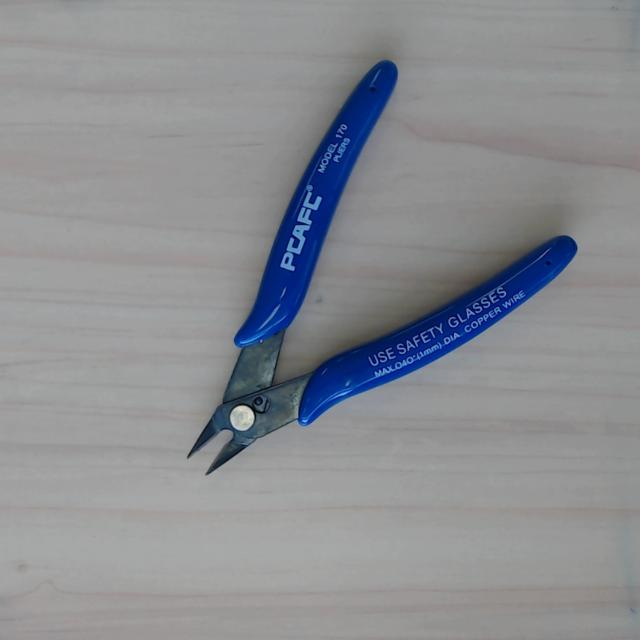Tang-Potong-Biru: (88, 55, 583, 553)
